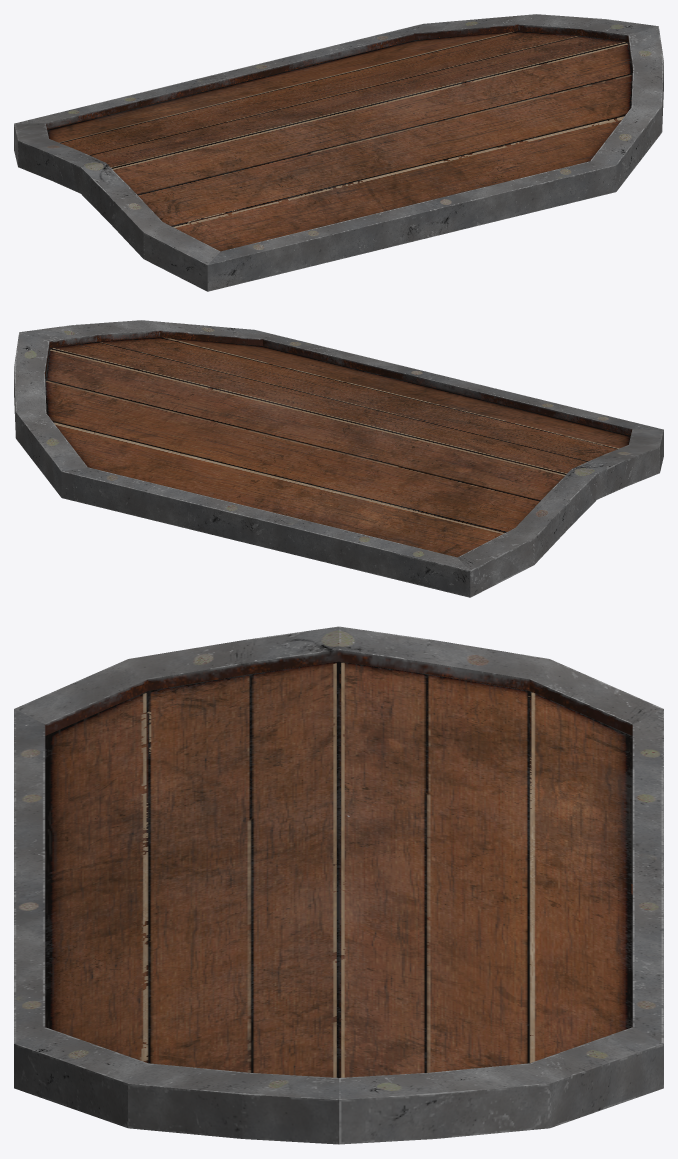
The model's file is shield (1).glb.
The picture shows the model from 3 angles, top to bottom: view 1: azimuth 30°, elevation 25°; view 2: azimuth 150°, elevation 25°; view 3: azimuth 270°, elevation 25°; orthographic projection. The views are drawn at different scales.
Parts seen in each view (by area): view 1: Shield; view 2: Shield; view 3: Shield.
Part boxes in pixels (x1=…): Shield: x1=14, y1=14, x2=663, y2=291; Shield: x1=14, y1=320, x2=663, y2=597; Shield: x1=14, y1=626, x2=663, y2=1144.
Bounding box in the file's own units: 1323 × 147 × 767.
Materials: 1 (1 with a texture image).
